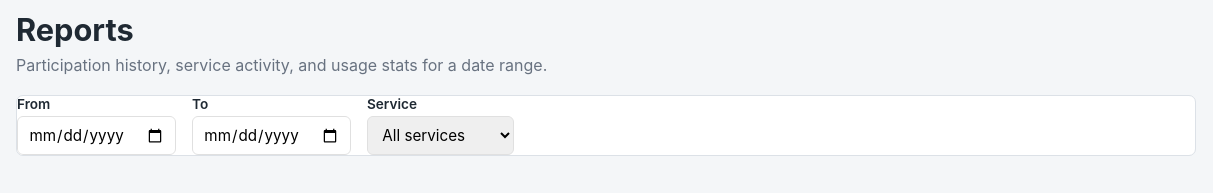
Test case: admin reports › shows an error when the user is not an admin
Click the button "Generate report".
click(609, 136)  # box [530,116,687,155]
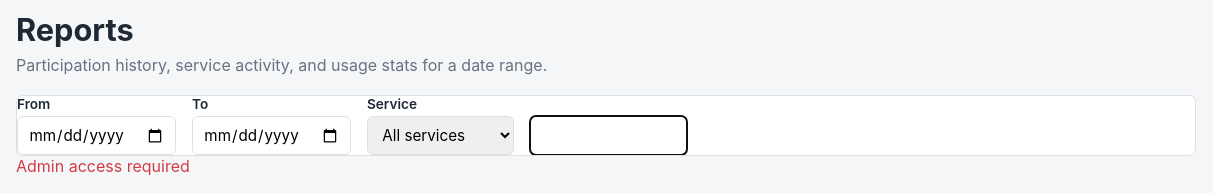
expect the message reads "Admin access required": met, box [16,156,190,176]
